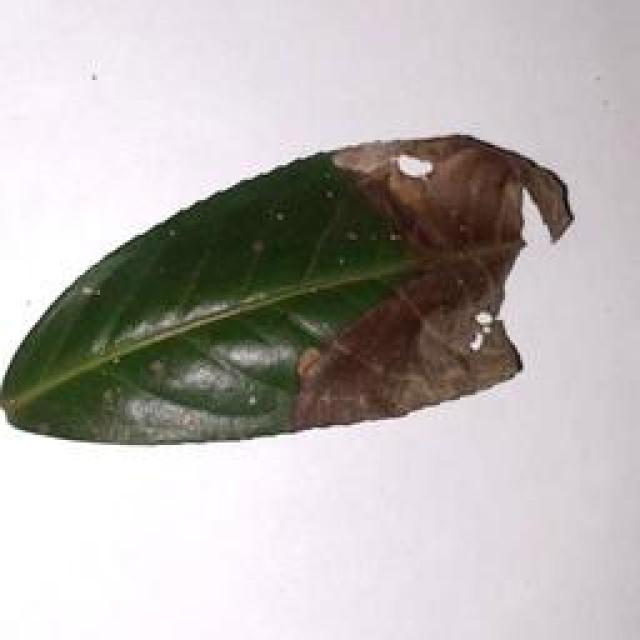Brown Blight: (5, 116, 579, 488)
